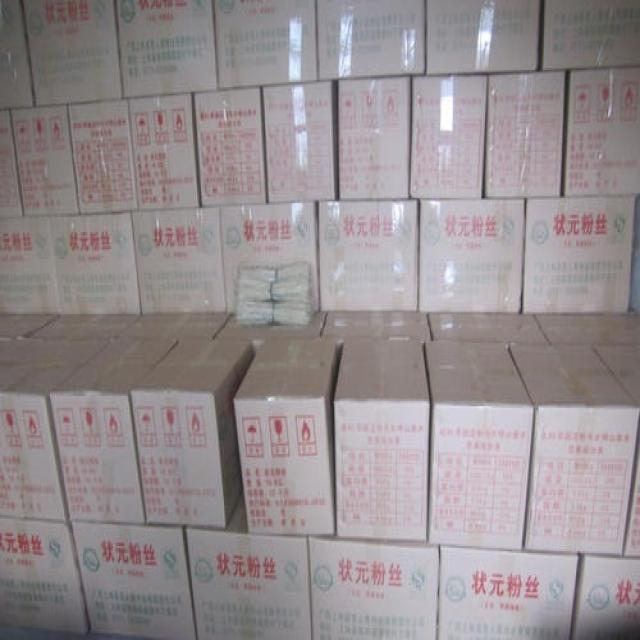box: (508, 343, 640, 558), (131, 340, 264, 531), (49, 340, 179, 524), (425, 340, 535, 550), (233, 340, 343, 541), (334, 336, 433, 544), (0, 338, 106, 522), (183, 492, 311, 640), (68, 524, 197, 638), (439, 544, 580, 640), (308, 538, 438, 640), (521, 196, 635, 312), (419, 200, 526, 312), (317, 201, 419, 311), (483, 68, 567, 201), (219, 201, 319, 312), (20, 0, 122, 108), (0, 517, 91, 635), (131, 205, 227, 316), (410, 73, 489, 201), (562, 67, 640, 196), (114, 0, 216, 97), (260, 80, 339, 203), (124, 92, 200, 213), (47, 213, 138, 314), (214, 0, 317, 89), (191, 87, 266, 208), (337, 79, 412, 200), (316, 0, 429, 79), (425, 0, 547, 73), (67, 97, 137, 213), (8, 104, 79, 218), (541, 0, 640, 68), (570, 555, 640, 640), (0, 218, 59, 316), (426, 312, 550, 343), (212, 309, 326, 341), (532, 312, 640, 345), (110, 314, 234, 340), (320, 314, 433, 340), (594, 345, 640, 408), (27, 314, 138, 340), (0, 111, 24, 222), (623, 408, 640, 558), (0, 314, 59, 338)
